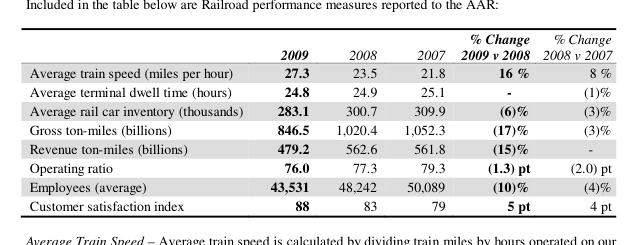table: (28, 29, 611, 214)
table column: (28, 29, 256, 214), (452, 29, 535, 214), (535, 29, 611, 214), (321, 29, 389, 214), (256, 29, 321, 214), (389, 29, 452, 214)
table column header: (28, 29, 611, 62)
table row: (28, 29, 611, 62), (28, 62, 611, 81), (28, 81, 611, 100), (28, 100, 611, 119), (28, 119, 611, 138), (28, 138, 611, 157), (28, 157, 611, 176), (28, 176, 611, 195), (28, 195, 611, 214)
